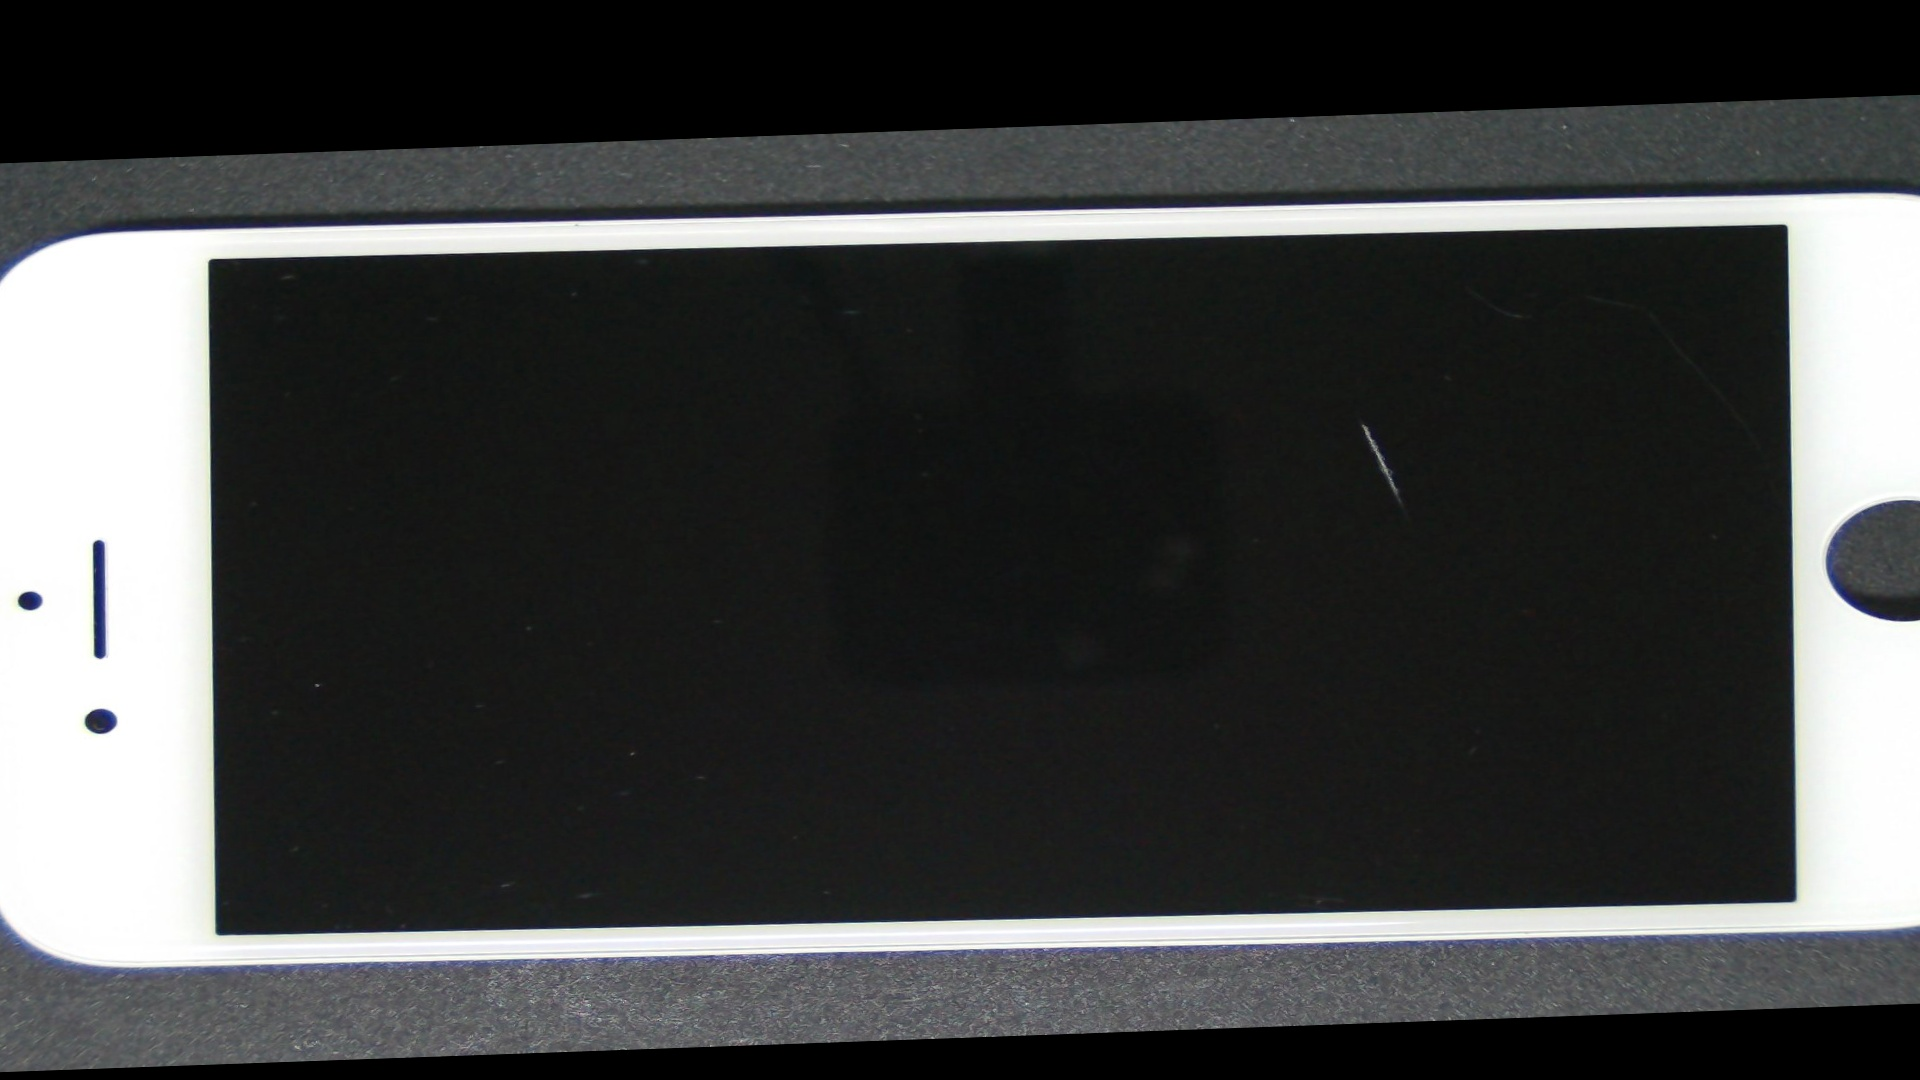oil: (641, 243, 1920, 605)
